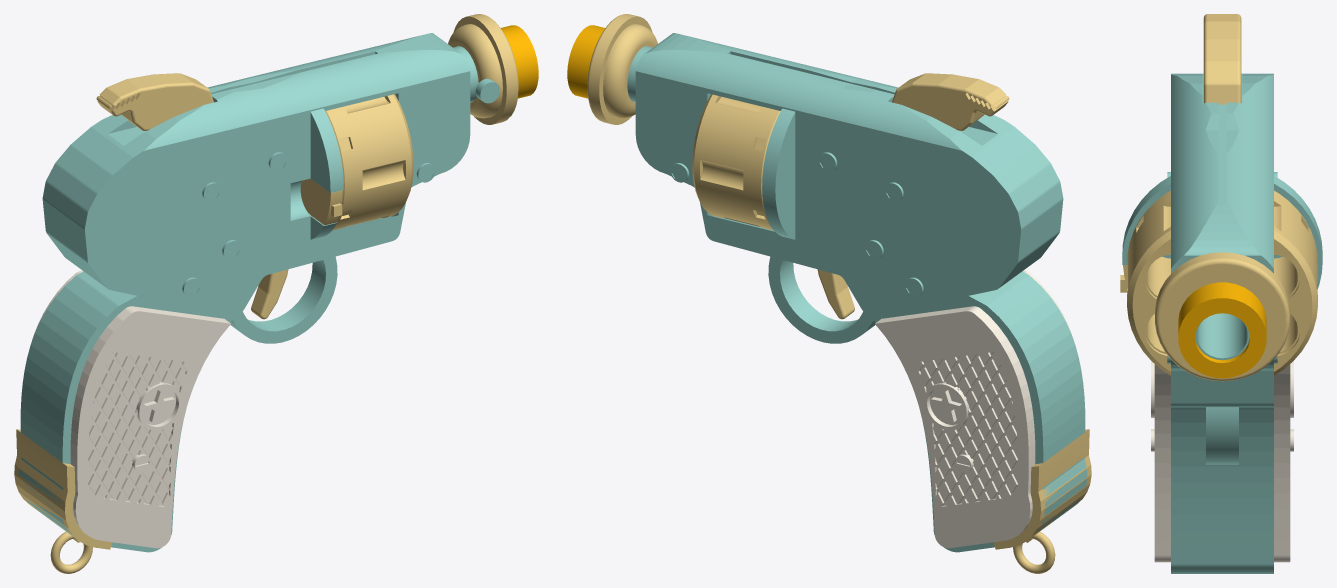
The picture shows the model from 3 angles, left to right: view 1: azimuth 30°, elevation 25°; view 2: azimuth 150°, elevation 25°; view 3: azimuth 270°, elevation 25°; orthographic projection. The views are drawn at different scales.
Visible parts, largest first — view 1: telaio, =>[0:1:1:18], =>[0:1:1:3], =>[0:1:1:12], =>[0:1:1:21], =>[0:1:1:27], =>[0:1:1:30], sportello, =>[0:1:1:25], cordino; view 2: telaio, guancia_sx, =>[0:1:1:3], =>[0:1:1:12], =>[0:1:1:21], =>[0:1:1:27], =>[0:1:1:30], =>[0:1:1:25], cordino; view 3: telaio, =>[0:1:1:3], =>[0:1:1:12], =>[0:1:1:30], guancia_sx, =>[0:1:1:18], =>[0:1:1:21], =>[0:1:1:10].
Boxes of the visible parts, x1,y1,x2,y2 form: telaio: (18,33,470,552); =>[0:1:1:18]: (70,306,230,548); =>[0:1:1:3]: (325,94,413,230); =>[0:1:1:12]: (448,14,518,124); =>[0:1:1:21]: (97,73,213,130); =>[0:1:1:27]: (14,429,112,549); =>[0:1:1:30]: (501,25,538,98); sportello: (300,178,342,225); =>[0:1:1:25]: (251,269,288,319); cordino: (50,532,92,573); telaio: (635,33,1087,552); guancia_sx: (875,306,1035,548); =>[0:1:1:3]: (692,94,780,230); =>[0:1:1:12]: (587,14,657,124); =>[0:1:1:21]: (892,73,1008,130); =>[0:1:1:27]: (993,429,1091,549); =>[0:1:1:30]: (567,25,604,98); =>[0:1:1:25]: (817,269,854,319); cordino: (1013,532,1055,573); telaio: (1122,73,1322,573); =>[0:1:1:3]: (1127,190,1317,375); =>[0:1:1:12]: (1155,252,1289,381); =>[0:1:1:30]: (1178,282,1266,378); guancia_sx: (1274,361,1293,562); =>[0:1:1:18]: (1151,361,1170,562); =>[0:1:1:21]: (1203,14,1241,104); =>[0:1:1:10]: (1195,313,1249,360).
Bounding box in the file's own units: 145 × 136 × 43.38.
